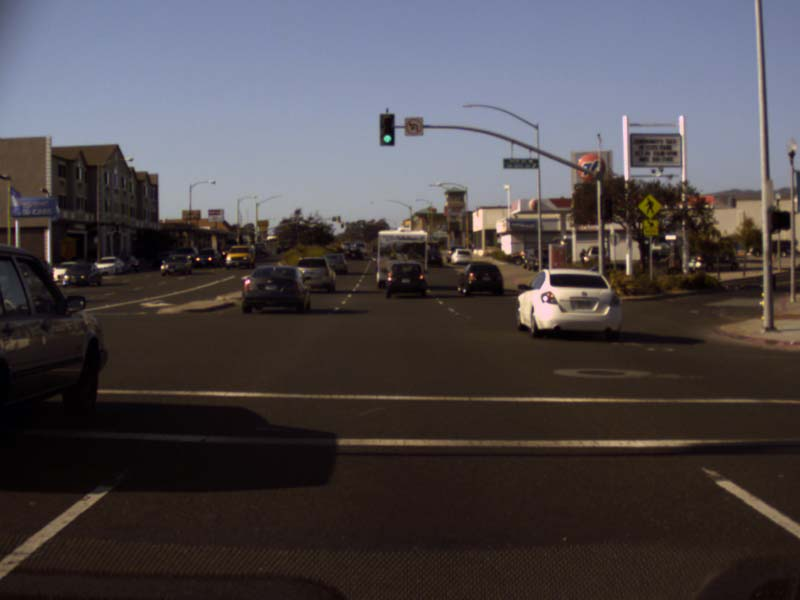Green: (378, 113, 394, 146)
